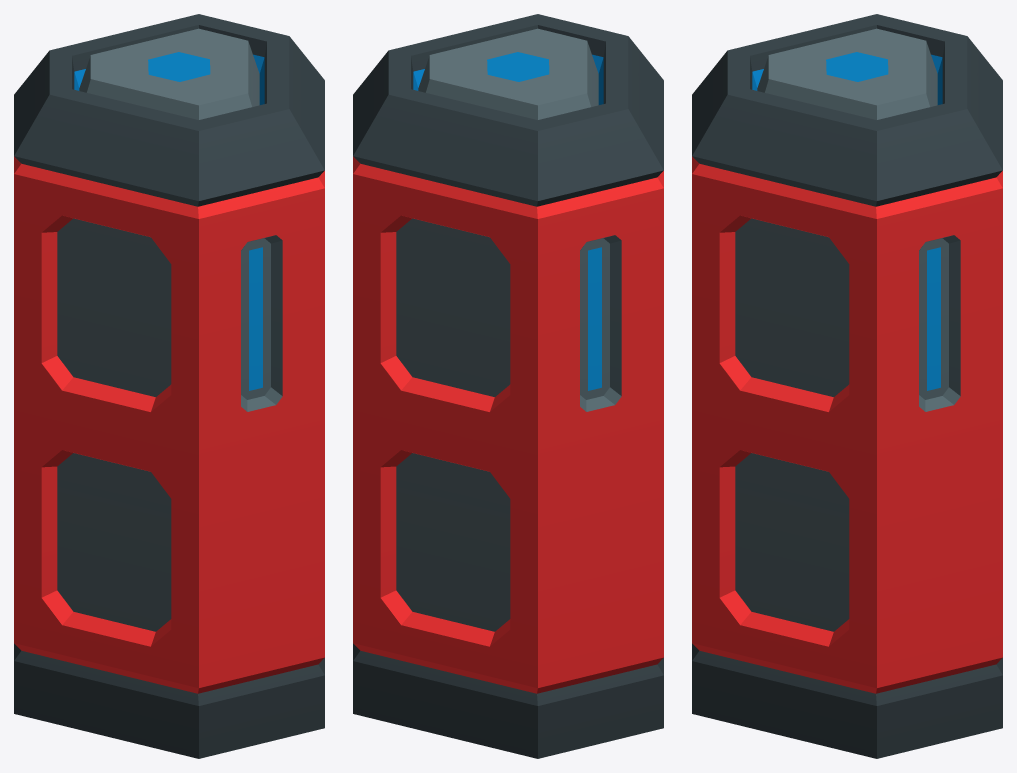
The model's file is Battery_011.fbx.
3 renders of one model, left to right at view 1: azimuth 30°, elevation 25°; view 2: azimuth 150°, elevation 25°; view 3: azimuth 270°, elevation 25°, orthographic.
Parts seen in each view (by area): view 1: Battery_011; view 2: Battery_011; view 3: Battery_011.
Boxes of the visible parts, x1,y1,x2,y2 form: Battery_011: (14,14,324,758); Battery_011: (353,14,663,758); Battery_011: (692,14,1002,758).
Bounding box in the file's own units: 40.01 × 34.65 × 75.79.
